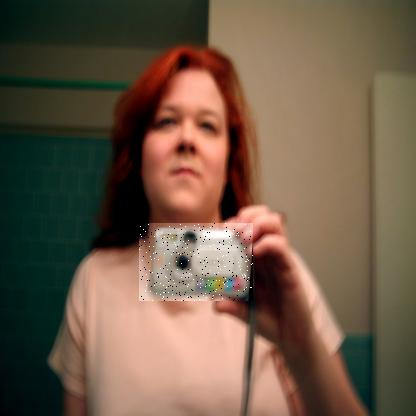Camera: (140, 224, 255, 303)
